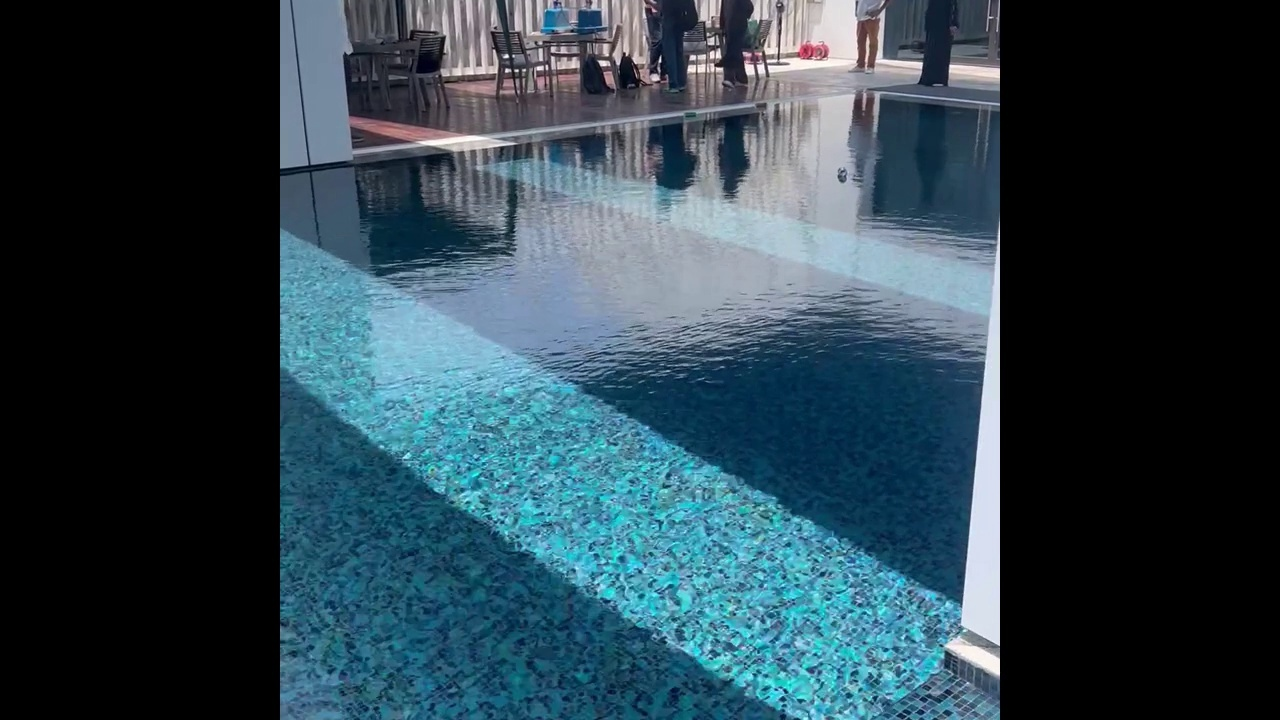debris: (750, 97, 770, 112), (680, 108, 701, 121), (836, 165, 848, 178)
